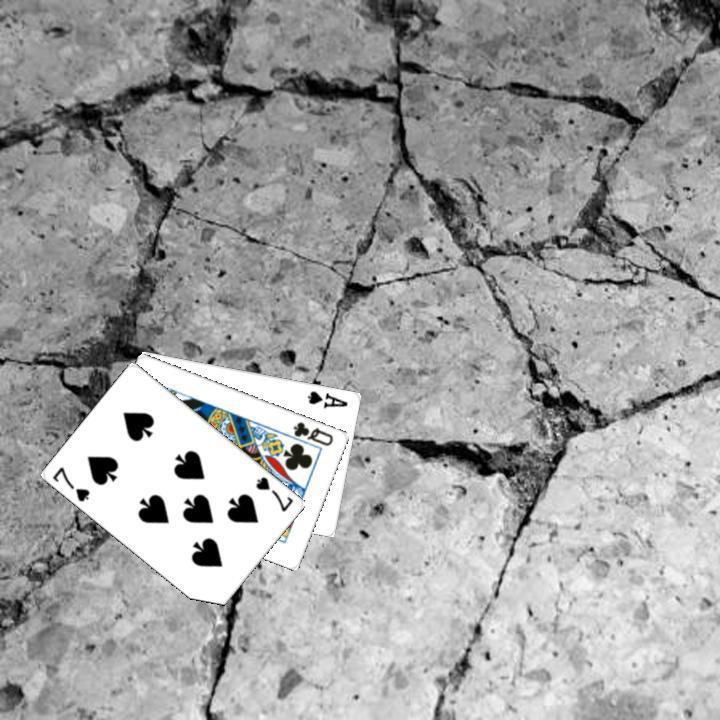7: (251, 472, 296, 514), (48, 462, 92, 504)
A: (304, 386, 350, 410)
Q: (289, 417, 336, 448)
